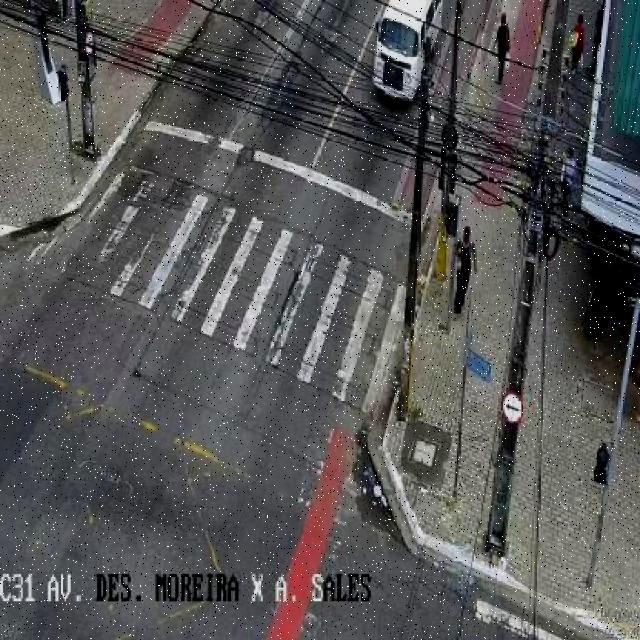Bus: (352, 0, 450, 106)
